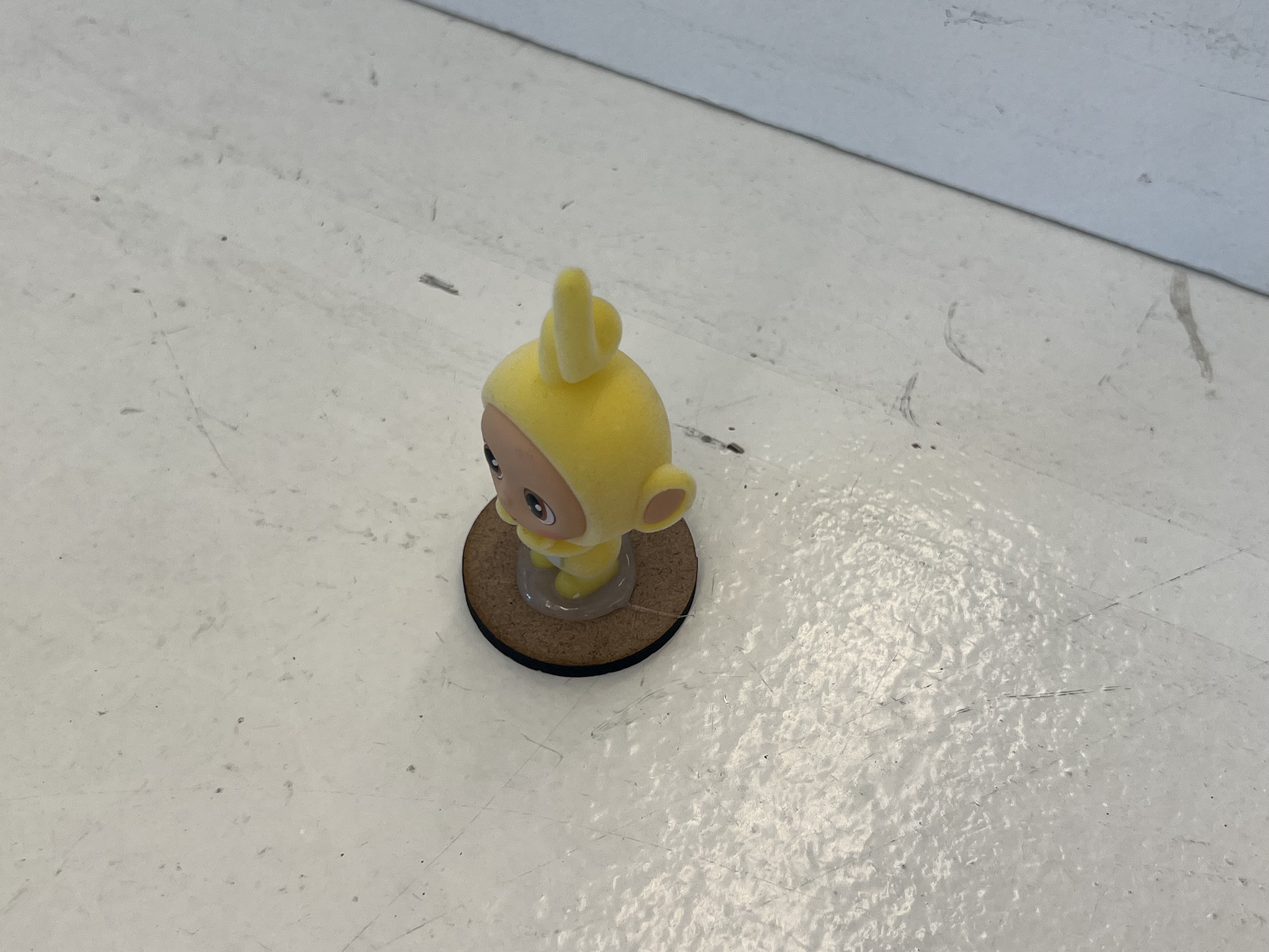teletubby: (481, 268, 695, 600)
